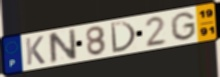2: (144, 15, 167, 49)
8: (85, 25, 107, 57)
D: (109, 20, 138, 55)
G: (170, 11, 198, 42)
K: (23, 35, 46, 66)
N: (47, 27, 79, 65)
